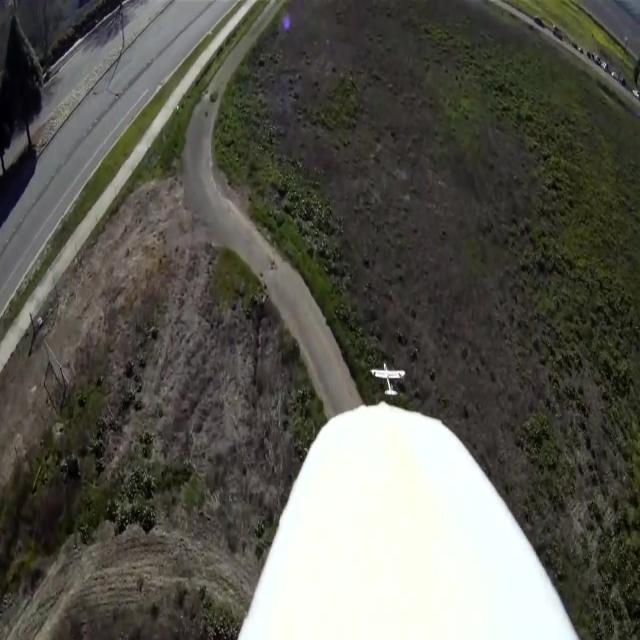iha: (370, 360, 407, 398)
